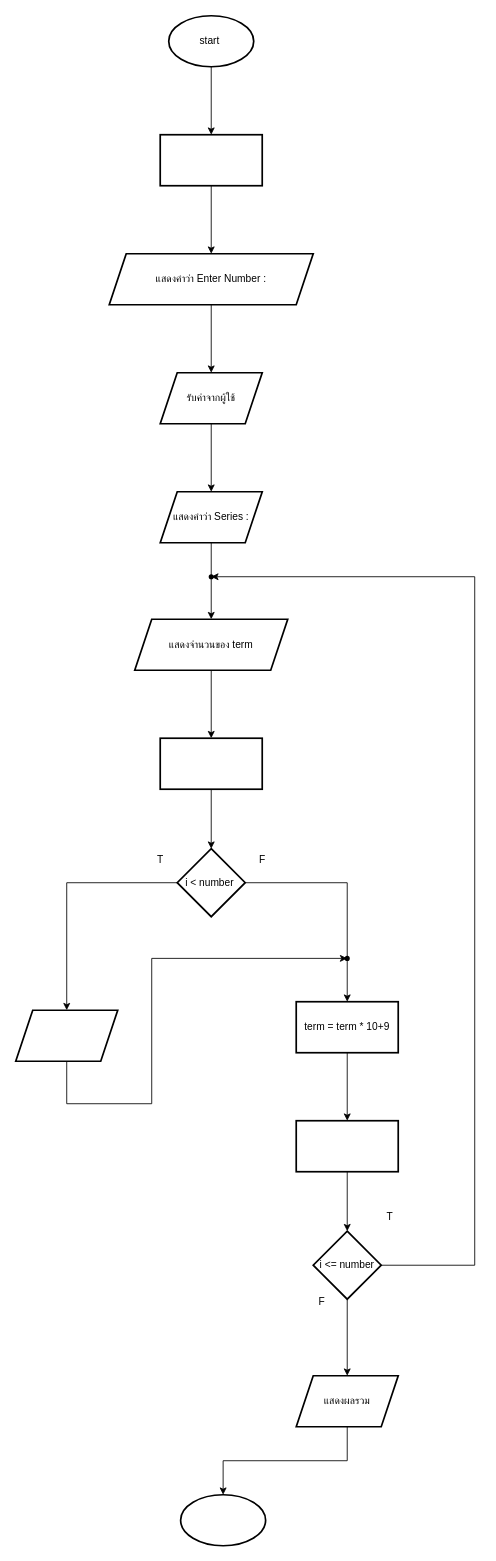
Some shapes in this 496 by 1561 pixel diagram are drawn without their labels. The box of each missing label's shape, as (x1, y1, x2, y2) in pixels:
end: (179, 1493, 266, 1546)
i ++: (295, 1119, 399, 1172)
sum += term: (159, 737, 263, 790)
สร้างตัวแปร number term =9 sum = 0 i = 1: (159, 133, 263, 186)
แสดง + คั่น: (14, 1009, 118, 1062)
